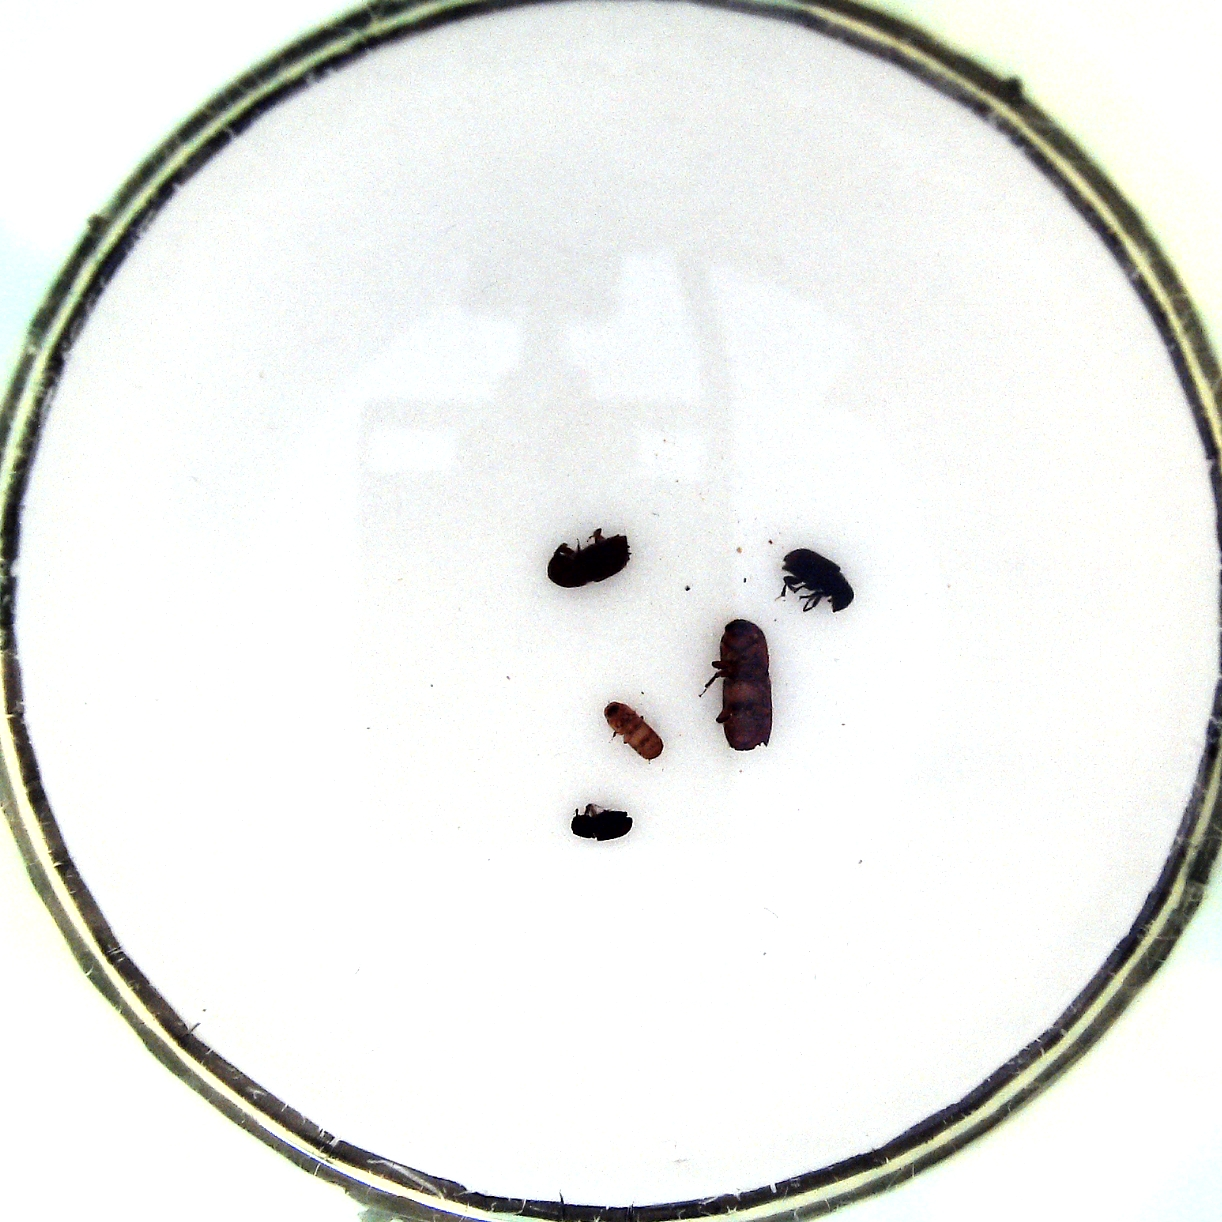Boerner: (701, 617, 773, 760)
Linnaeus: (544, 527, 632, 594)
acuminatus: (601, 694, 665, 775)
armandi: (777, 547, 861, 621)
coleoptera: (564, 801, 634, 845)
